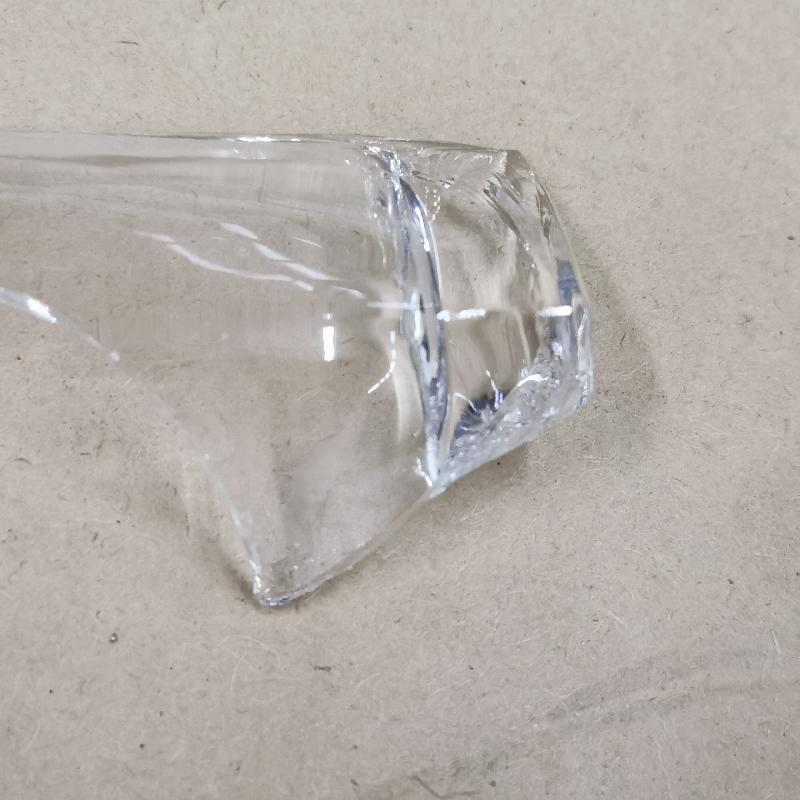glass: (0, 119, 591, 608)
